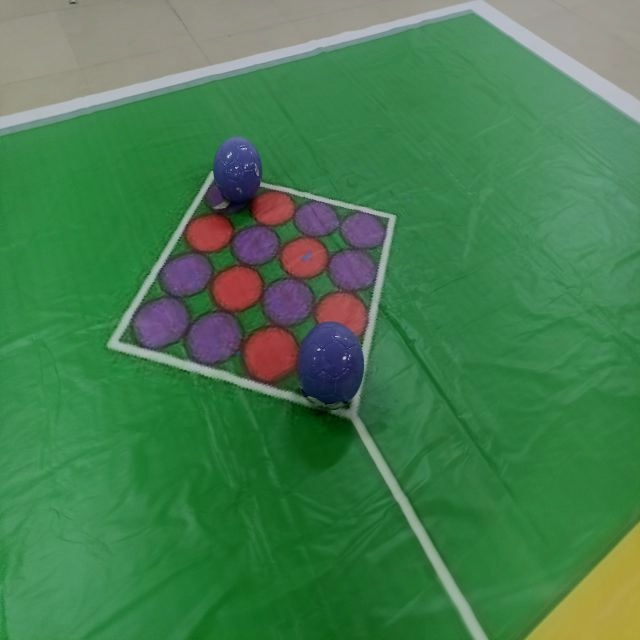purple_ball: (214, 137, 262, 206)
